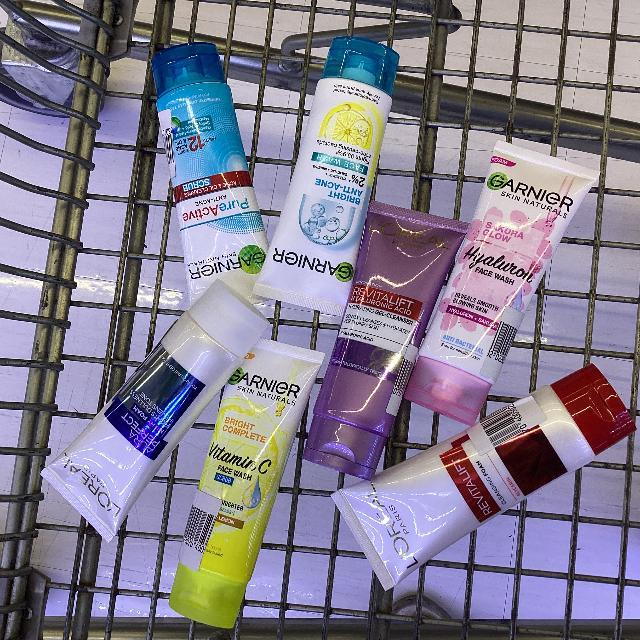Squeeze Tube: (38, 17, 640, 639)
